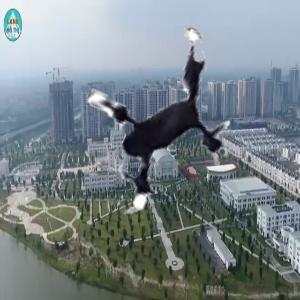drone: (39, 6, 262, 229)
